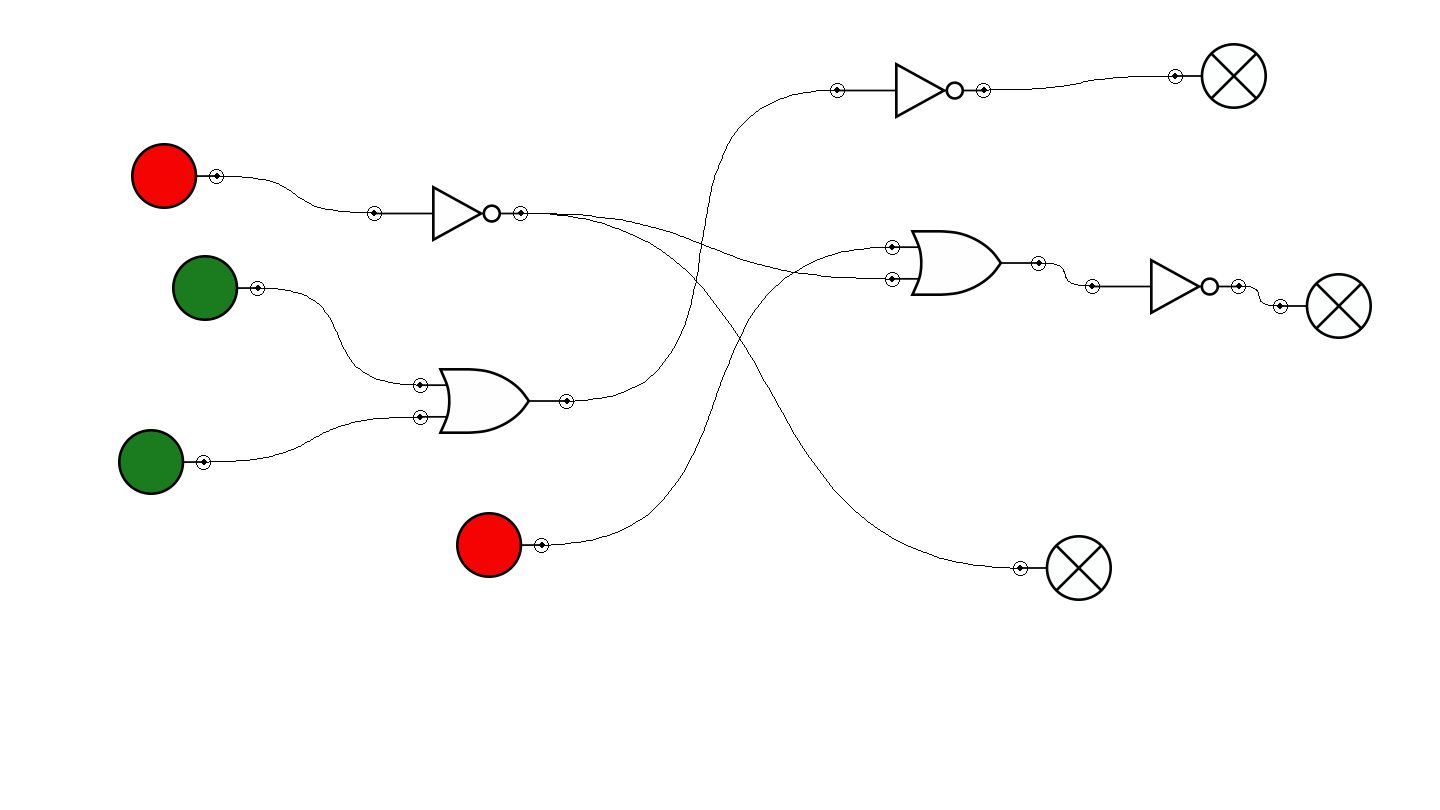bulb: (1013, 535, 1112, 601), (1168, 43, 1267, 109), (1273, 273, 1372, 339)
not: (367, 185, 528, 242), (1085, 258, 1246, 315), (830, 62, 991, 119)
or: (413, 368, 574, 434), (885, 230, 1046, 296)
switch_False: (456, 512, 549, 578), (131, 143, 224, 209)
switch_True: (172, 255, 265, 321), (118, 429, 211, 495)
